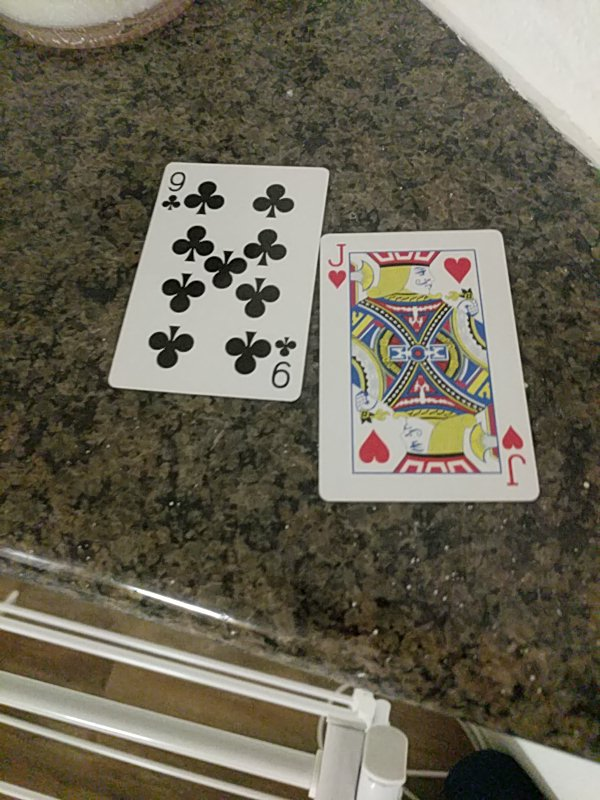Clubs: (106, 162, 328, 400)
Hearts: (317, 227, 541, 501)
